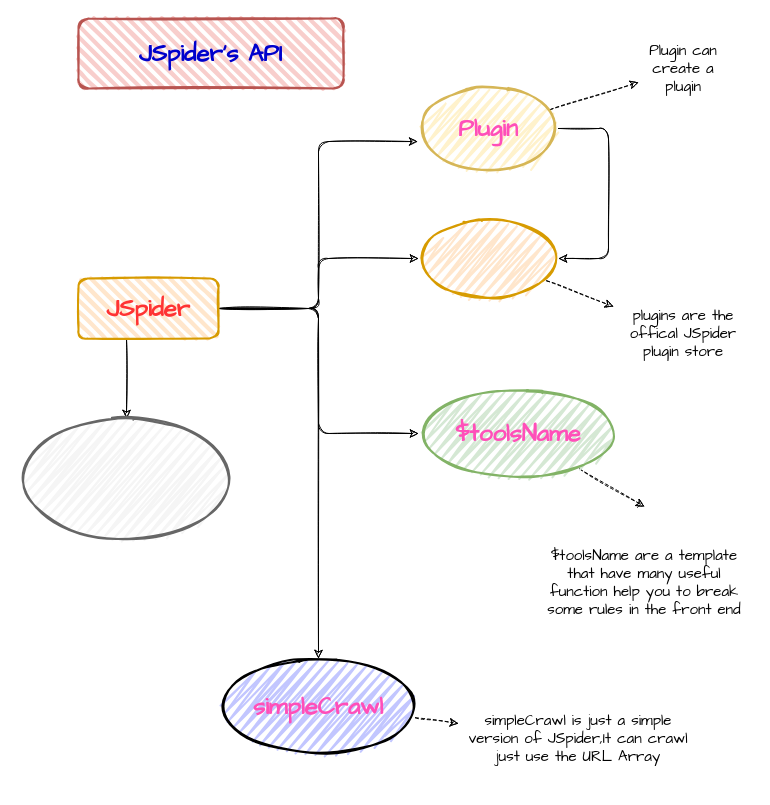
Image size: 770x805. Some labels were removed from this diagram. The box of each missing label's shape, as (x1, y1, x2, y2) in pixels:
JSpider is also an important Function: (17, 417, 234, 539)
plugins: (417, 217, 559, 299)
